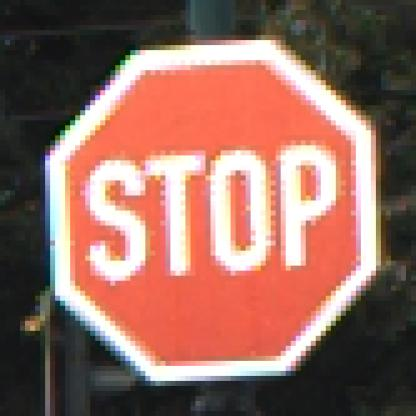Stop: (46, 47, 379, 376)
